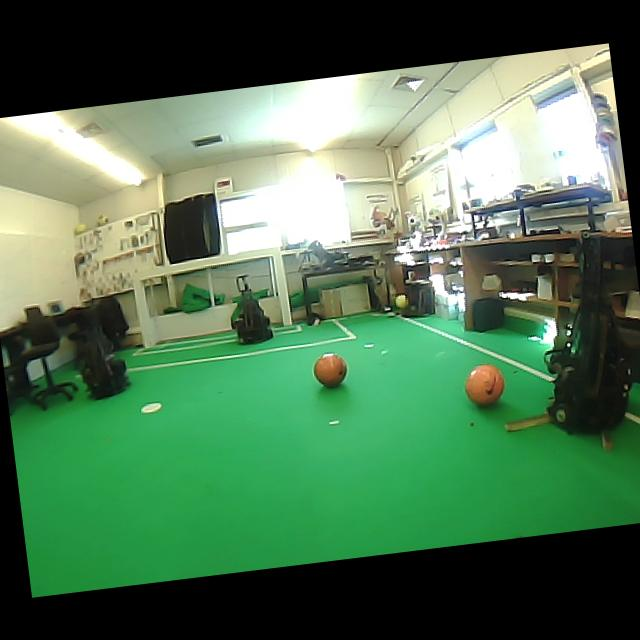ball: (464, 363, 503, 405), (313, 352, 346, 387), (395, 294, 407, 308), (74, 222, 87, 234), (97, 215, 108, 225)
goal: (272, 247, 291, 325), (133, 279, 152, 345)
robot: (547, 235, 631, 432), (81, 319, 130, 398), (232, 275, 272, 343)
